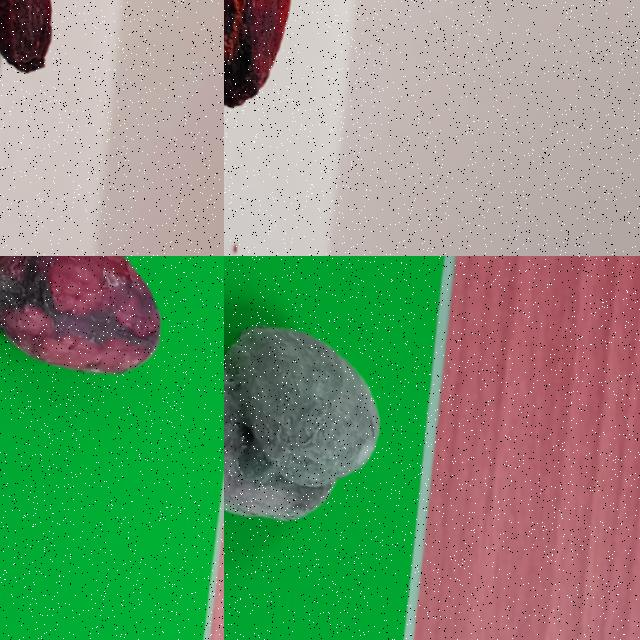Agglomerated_cocoabeans: (224, 256, 423, 584)
Fine_cocoabeans: (0, 256, 205, 483)
Flat_cocoabeans: (224, 0, 365, 189), (0, 0, 124, 118)
